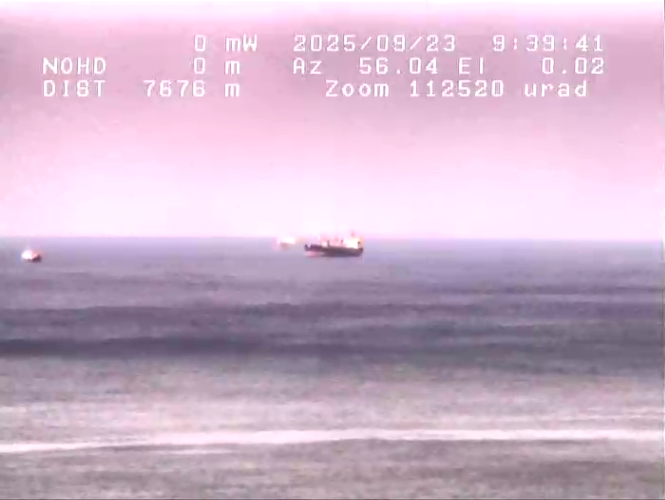TANKER: (294, 220, 384, 269), (12, 245, 49, 272)
